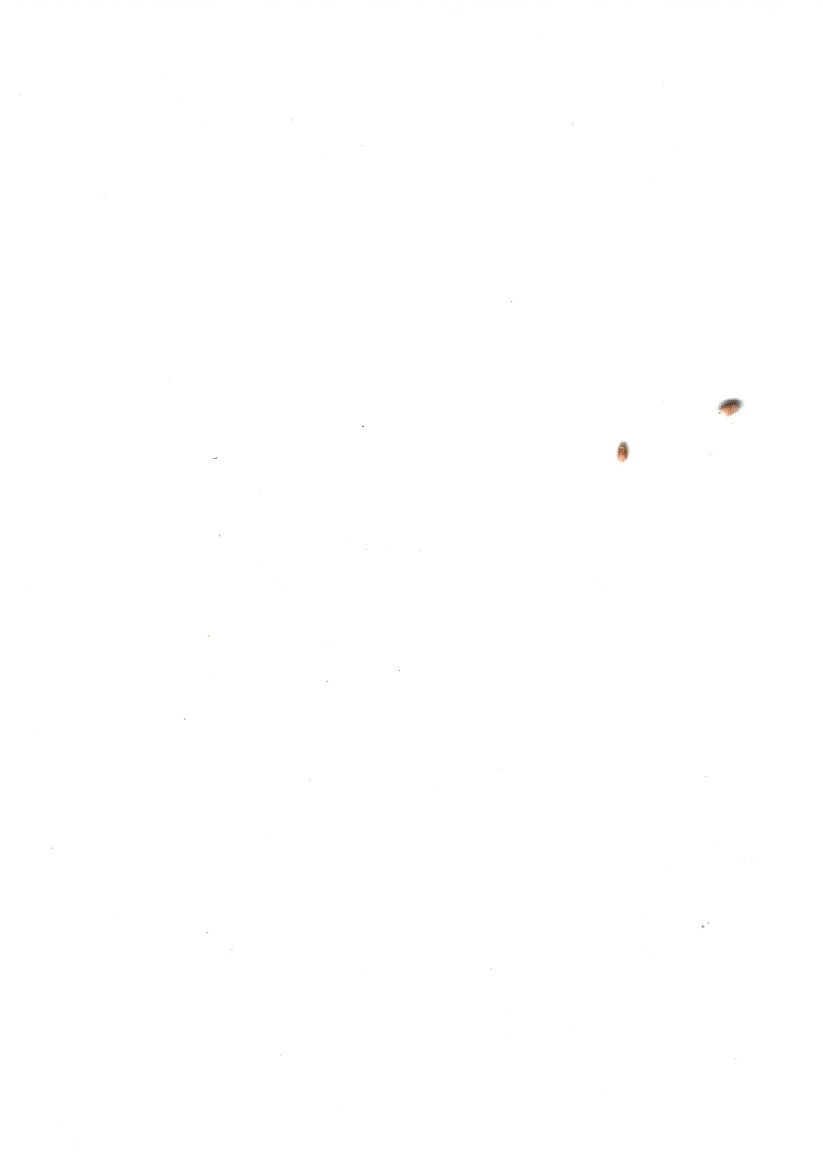grains: (602, 433, 640, 481), (712, 388, 747, 436)
